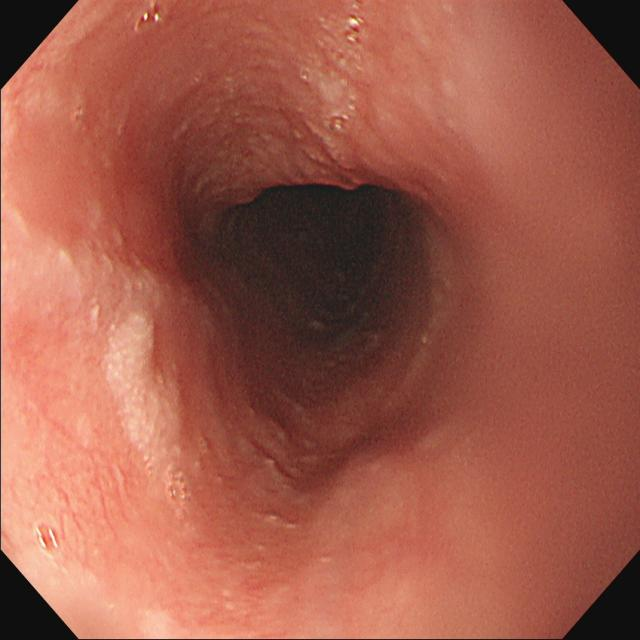E: (222, 183, 394, 333)
J: (16, 228, 163, 319), (103, 313, 185, 469), (317, 65, 357, 165)
T: (33, 519, 64, 561), (131, 2, 167, 36), (342, 2, 367, 47), (167, 474, 195, 508)
